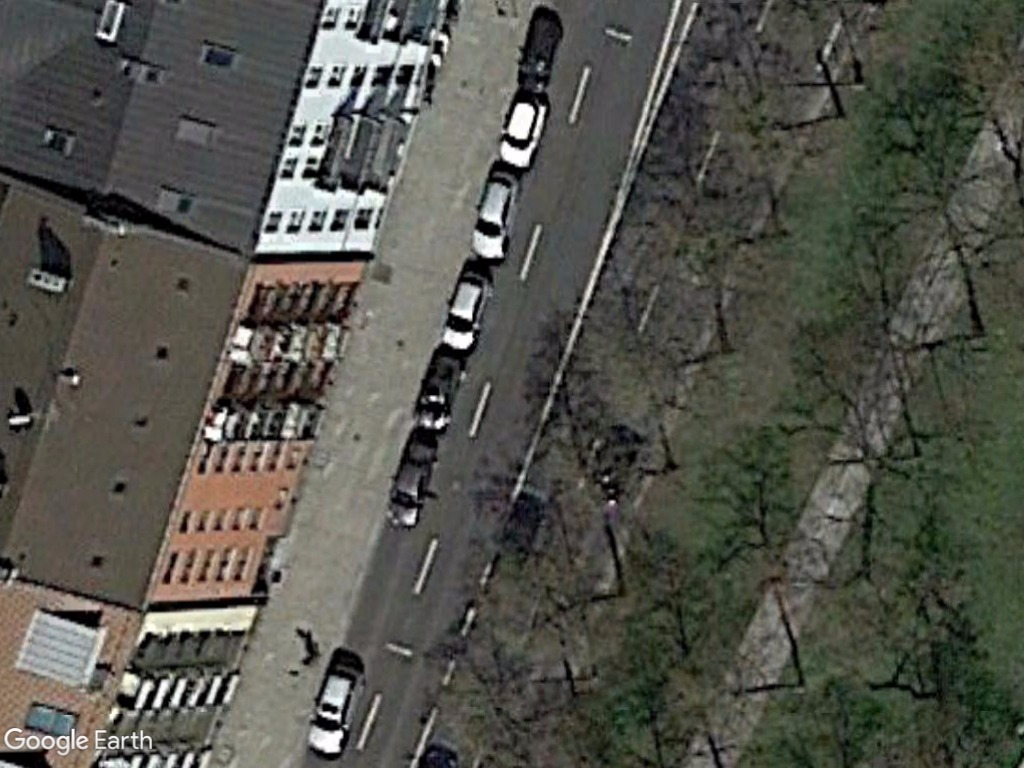car: (383, 430, 445, 532), (302, 658, 365, 758), (436, 265, 497, 360), (469, 164, 521, 269), (494, 89, 552, 173)
